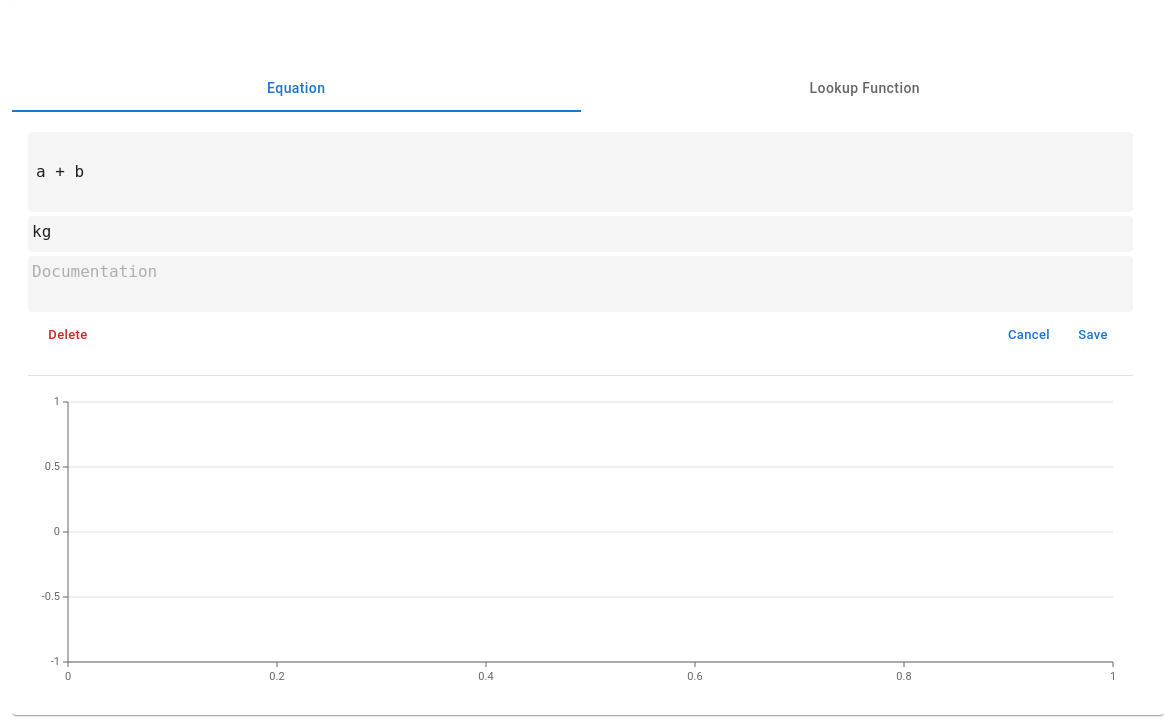
Test case: VariableDetails discard (Cancel / Escape) › Cancel discards an in-progress units edit
Check: the field with class "unitsEditor" reads "kg", box [28,216,1133,252]
Click the button "Cancel": (1029, 335) [997,320,1061,351]
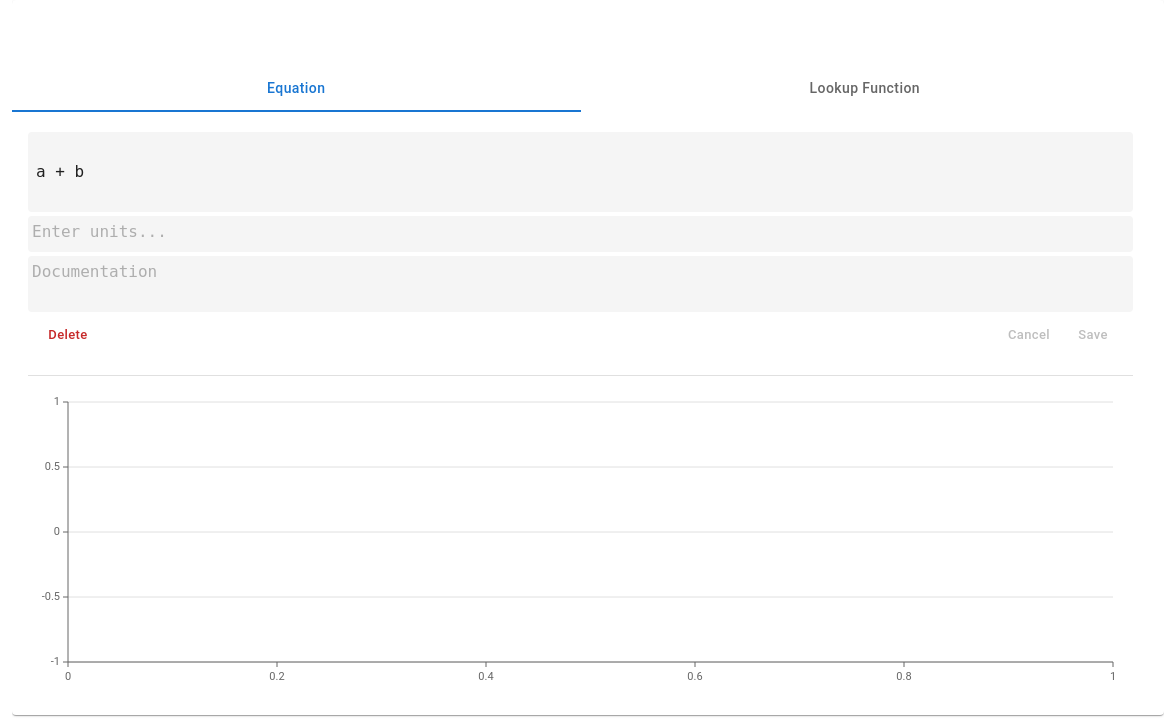
Check: the button "Cancel" is disabled, box [997,320,1061,351]
